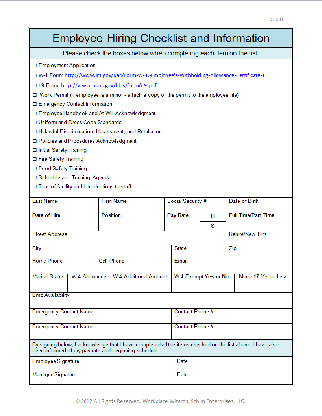checkbox: (31, 110, 38, 116), (31, 63, 37, 69), (31, 147, 37, 153), (31, 166, 37, 172), (32, 72, 37, 79), (31, 83, 38, 88), (32, 183, 37, 190), (32, 92, 37, 98), (31, 101, 37, 106), (32, 138, 37, 144), (31, 156, 37, 161), (32, 175, 37, 181), (32, 120, 37, 125), (32, 129, 37, 134)
textbox: (27, 289, 295, 311), (27, 229, 228, 248), (28, 320, 173, 341), (27, 368, 176, 387), (28, 306, 173, 325), (28, 354, 176, 372), (27, 243, 173, 261), (168, 306, 294, 326), (169, 321, 294, 341), (168, 256, 295, 275), (172, 368, 293, 387), (171, 354, 295, 372), (28, 210, 100, 233), (96, 210, 167, 233), (94, 195, 168, 217), (93, 256, 173, 276), (223, 210, 295, 232), (170, 271, 236, 295), (107, 272, 173, 295), (28, 195, 101, 215), (232, 272, 295, 295), (223, 195, 295, 215), (161, 195, 229, 216), (28, 256, 98, 276), (223, 229, 295, 247), (224, 242, 295, 259), (66, 272, 112, 295), (170, 243, 228, 260), (160, 209, 202, 232), (28, 272, 70, 294)
